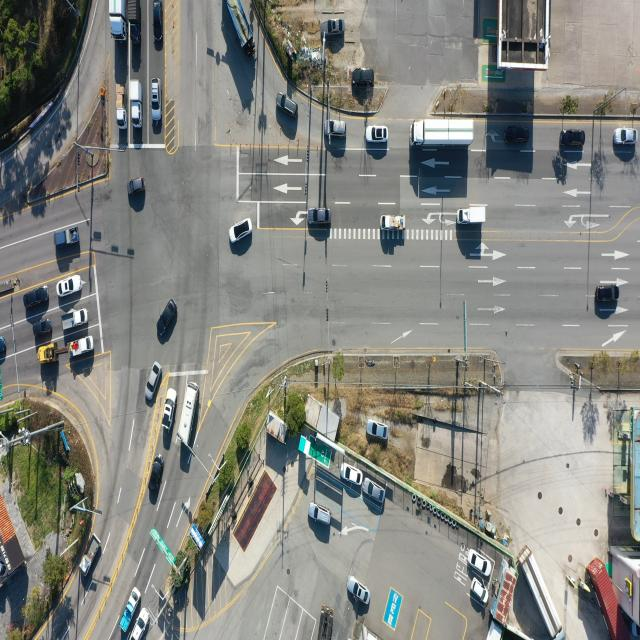car: (156, 298, 176, 336), (348, 575, 370, 605), (145, 362, 161, 402), (467, 551, 490, 578), (164, 388, 178, 432), (230, 219, 253, 245), (132, 610, 151, 640), (276, 92, 297, 119), (149, 455, 163, 493), (309, 504, 332, 527), (58, 275, 82, 297), (24, 286, 48, 308), (151, 0, 163, 44), (363, 480, 384, 504), (470, 578, 488, 606), (342, 462, 364, 484), (506, 127, 529, 146), (596, 284, 620, 302), (306, 208, 330, 226), (562, 130, 586, 148), (366, 420, 387, 440), (352, 67, 375, 85), (616, 128, 638, 146), (150, 78, 159, 120), (366, 127, 388, 144), (324, 19, 344, 36), (33, 319, 52, 336), (128, 178, 146, 195), (330, 119, 348, 134), (0, 338, 7, 358)
medium_truck: (524, 546, 566, 638), (410, 118, 474, 149), (226, 0, 256, 56), (110, 0, 129, 38), (317, 601, 334, 640)
small_bus: (175, 382, 197, 448)
small_truck: (121, 586, 142, 630), (82, 535, 102, 578), (131, 81, 144, 130), (114, 83, 128, 127), (62, 308, 88, 331), (70, 336, 95, 359), (54, 227, 80, 249), (127, 0, 140, 44), (457, 205, 485, 225), (380, 215, 406, 230)
